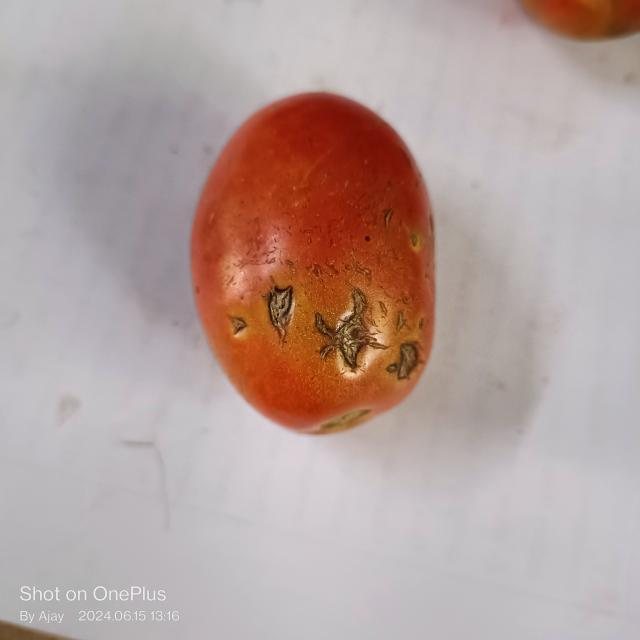Bacterial_Spot: (316, 286, 385, 372), (264, 278, 304, 346), (390, 339, 426, 380), (228, 312, 254, 340)
